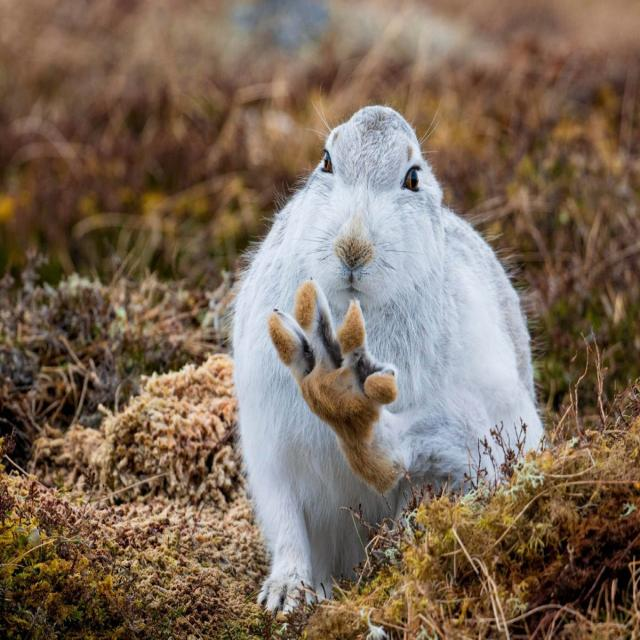hare: (233, 105, 543, 611)
